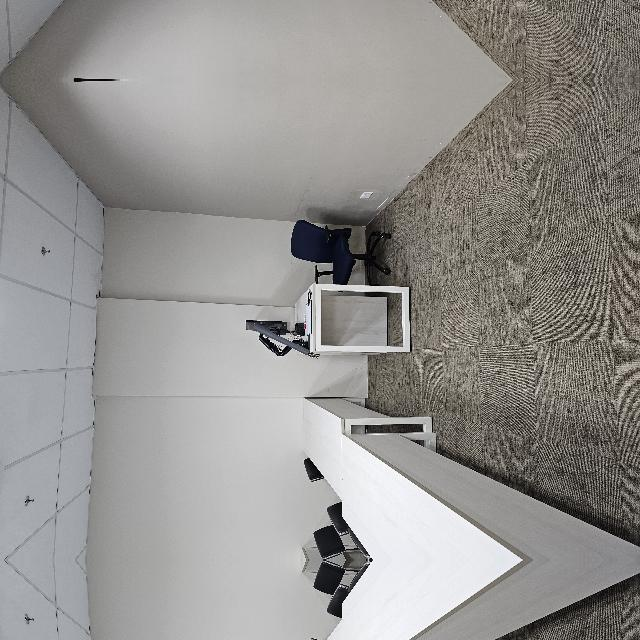obstacle: (0, 401, 111, 640), (0, 421, 111, 640), (206, 323, 272, 495), (272, 369, 342, 473), (206, 625, 272, 640)
